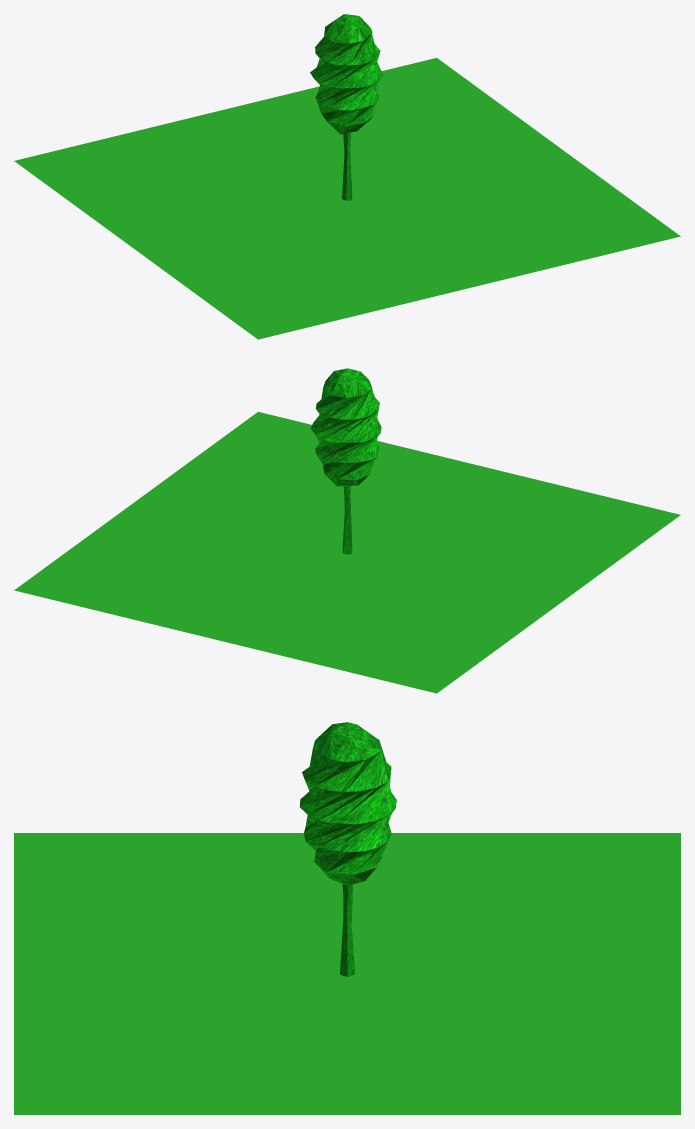
The model's file is treeModel.obj.
3 renders of one model, top to bottom at view 1: azimuth 30°, elevation 25°; view 2: azimuth 150°, elevation 25°; view 3: azimuth 270°, elevation 25°, orthographic. The views are drawn at different scales.
Parts seen in each view (by area): view 1: Plane_Plane.001; view 2: Plane_Plane.001; view 3: Plane_Plane.001.
Boxes of the visible parts, x1,y1,x2,y2 form: Plane_Plane.001: (14,14,680,339); Plane_Plane.001: (14,368,680,693); Plane_Plane.001: (14,722,680,1114).
Bounding box in the file's own units: 4.97 × 2.07 × 4.97.
Materials: 2 (2 with a texture image).
